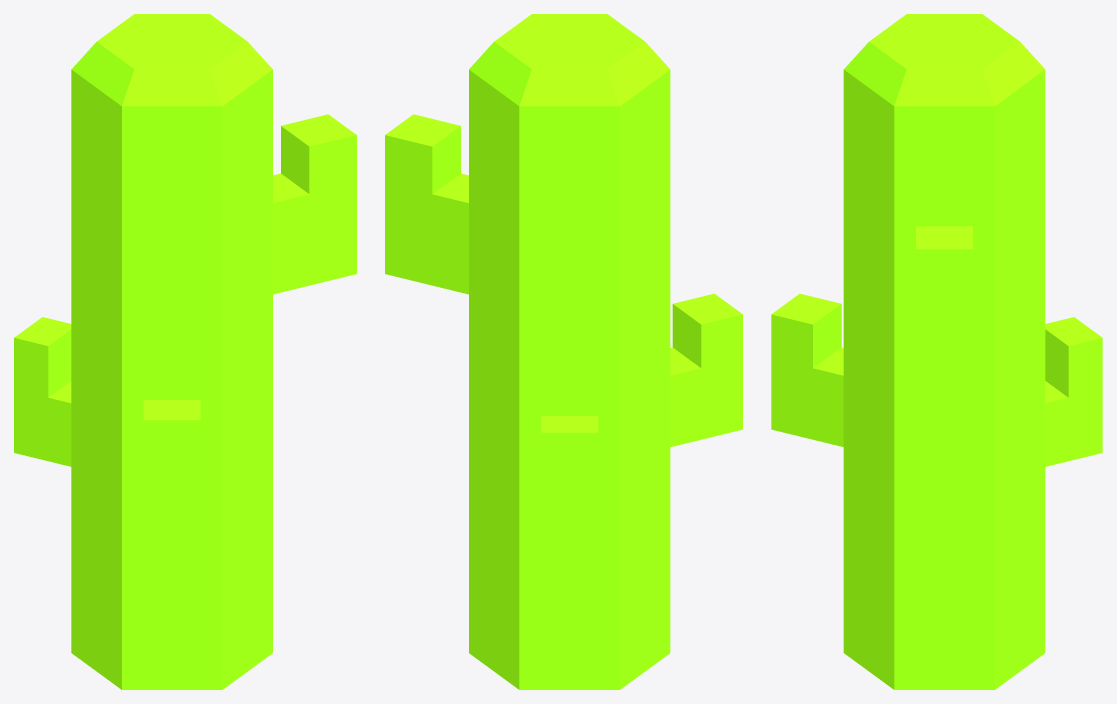
File: cactus.glb
3 views of the same model, side by side, from view 1: azimuth 30°, elevation 25°; view 2: azimuth 150°, elevation 25°; view 3: azimuth 270°, elevation 25° (orthographic).
Visible parts, largest first — view 1: cactus_short_1; view 2: cactus_short_1; view 3: cactus_short_1.
Boxes of the visible parts, left/top/right/bottom form: cactus_short_1: left=14, top=14, right=356, bottom=689; cactus_short_1: left=385, top=14, right=742, bottom=689; cactus_short_1: left=771, top=14, right=1102, bottom=689.
Size of the model in its own units: 0.2217 by 0.4774 by 0.2345.
